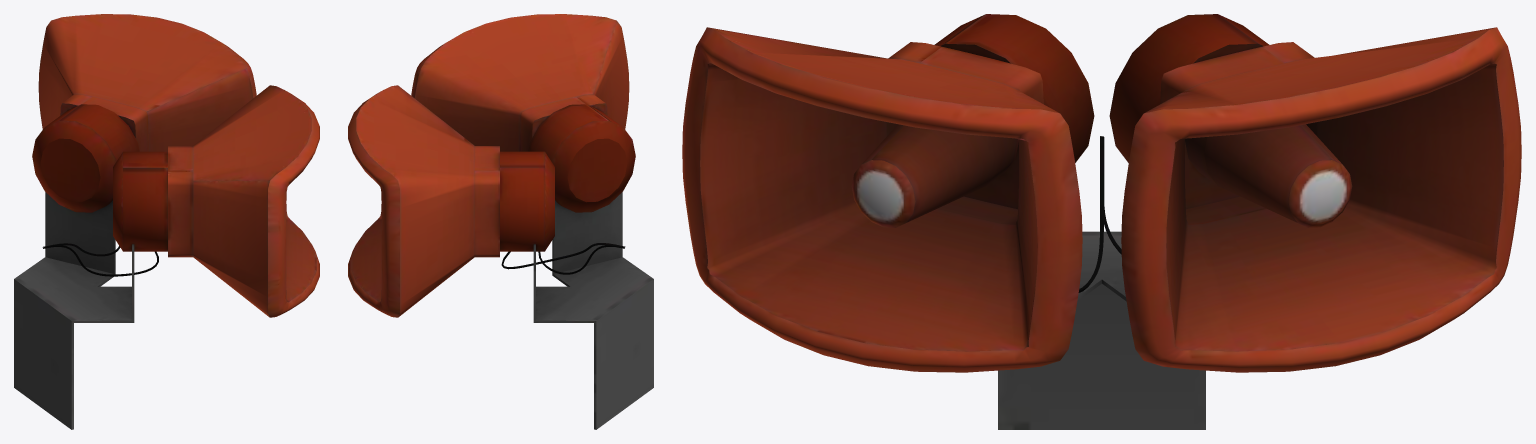
The picture shows the model from 3 angles, left to right: view 1: azimuth 30°, elevation 25°; view 2: azimuth 150°, elevation 25°; view 3: azimuth 270°, elevation 25°; orthographic projection. The views are drawn at different scales.
Parts seen in each view (by area): view 1: body0_model0_lod0_mesh0; view 2: body0_model0_lod0_mesh0; view 3: body0_model0_lod0_mesh0.
Part boxes in pixels (x1,y1,x2,y2): body0_model0_lod0_mesh0: (14, 14, 319, 429); body0_model0_lod0_mesh0: (348, 14, 653, 429); body0_model0_lod0_mesh0: (682, 14, 1521, 429).
Bounding box in the file's own units: 52.54 × 63.48 × 92.89.
1 material, 1 textured.
